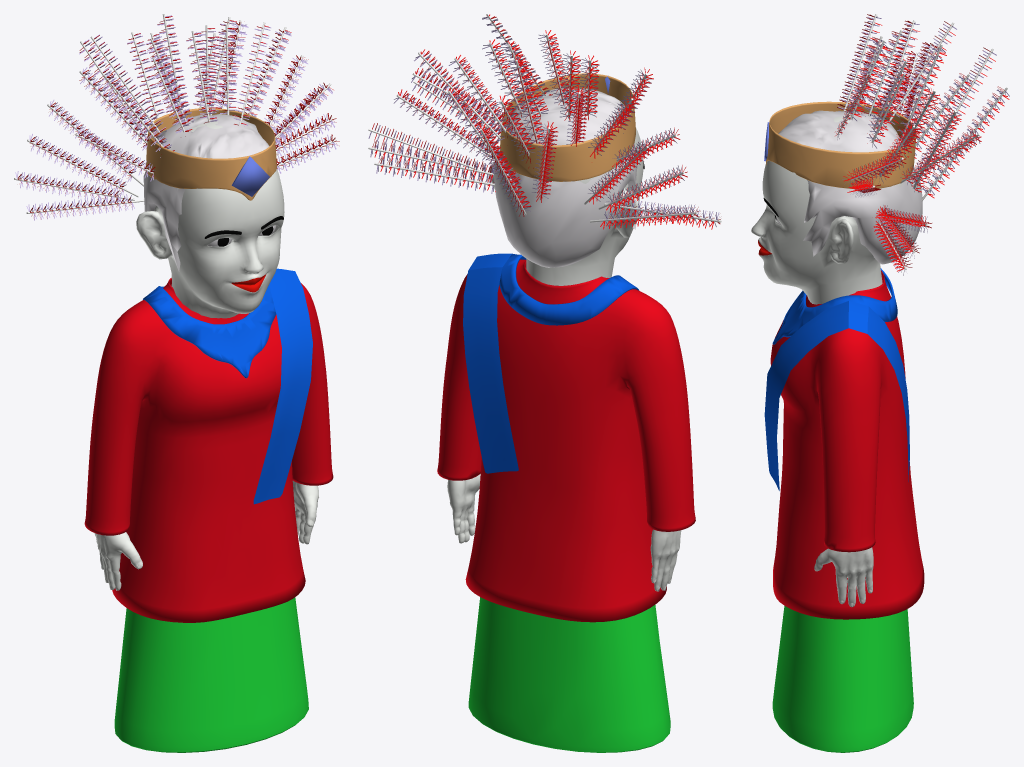
Rendered from ondel-perempuan.glb.
The picture shows the model from 3 angles, left to right: view 1: azimuth 30°, elevation 25°; view 2: azimuth 150°, elevation 25°; view 3: azimuth 270°, elevation 25°; orthographic projection. The views are drawn at different scales.
Parts seen in each view (by area): view 1: Baju_pakaian perempuan_0, rambut_Wolf3D_Hair_0; view 2: Baju_pakaian perempuan_0, rambut_Wolf3D_Hair_0; view 3: Baju_pakaian perempuan_0, rambut_Wolf3D_Hair_0.
Boxes of the visible parts, x1,y1,x2,y2 form: Baju_pakaian perempuan_0: (14,14,339,752); rambut_Wolf3D_Hair_0: (143,114,269,271); Baju_pakaian perempuan_0: (368,14,721,752); rambut_Wolf3D_Hair_0: (494,88,637,267); Baju_pakaian perempuan_0: (751,14,1009,752); rambut_Wolf3D_Hair_0: (778,110,922,264).
Bounding box in the file's own units: 4.95 × 9.86 × 3.45.
2 materials, 2 textured.
